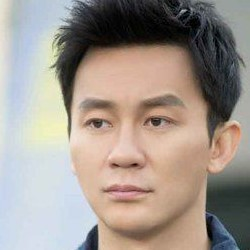unmask: (62, 81, 217, 237)
